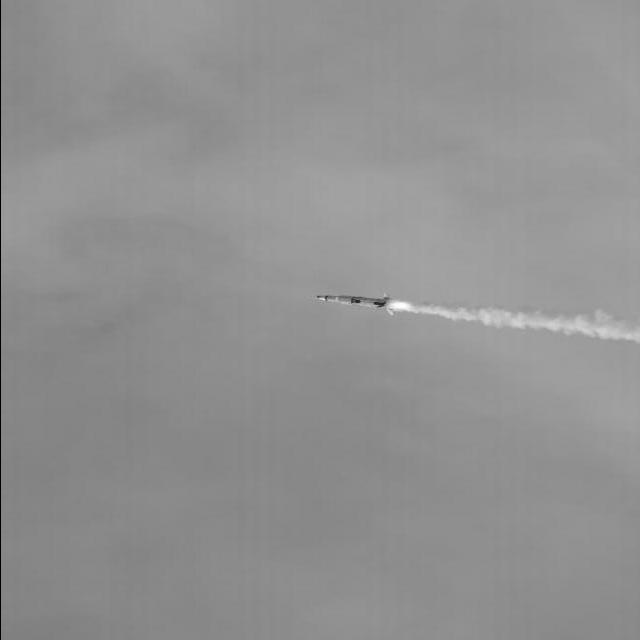missile: (312, 290, 396, 312)
